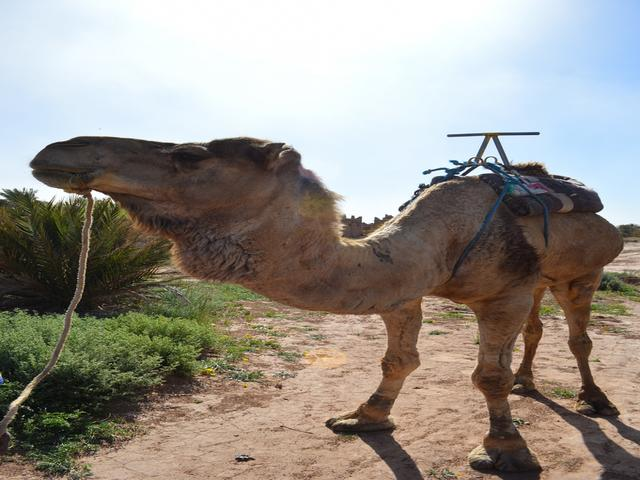camel: (16, 91, 638, 462)
